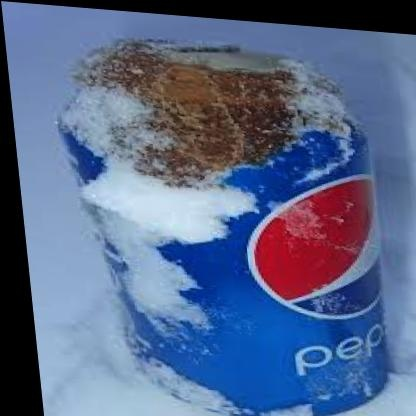trash: (58, 39, 386, 415)
